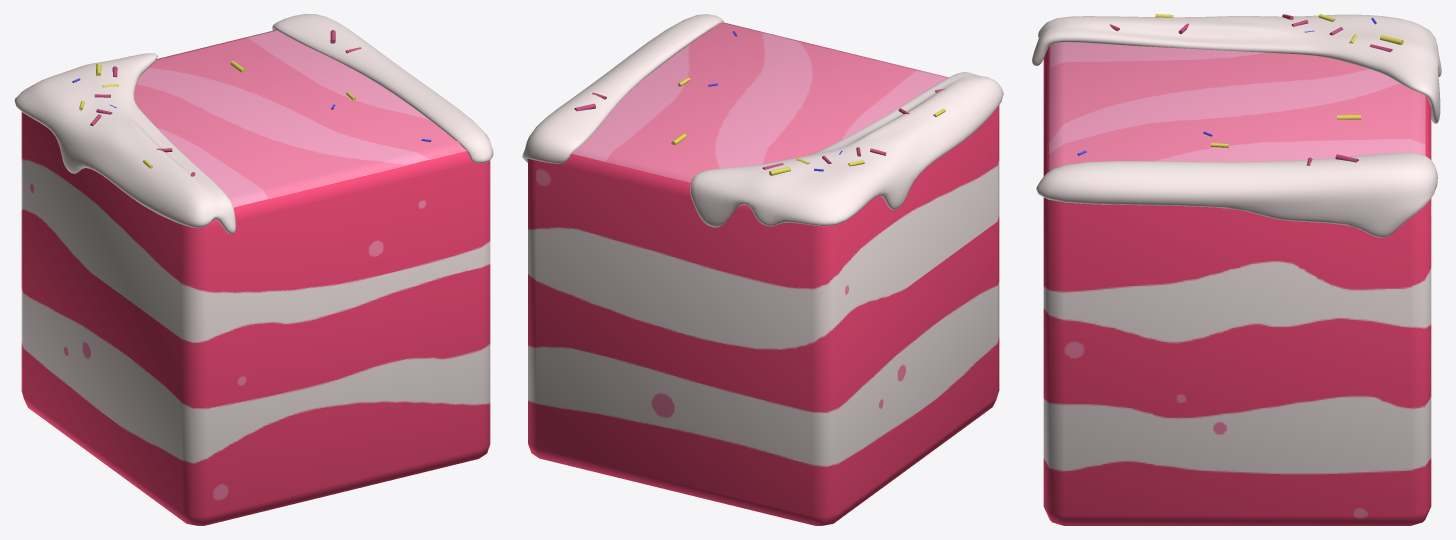
The model's file is Strawberry_2.fbx.
The picture shows the model from 3 angles, left to right: view 1: azimuth 30°, elevation 25°; view 2: azimuth 150°, elevation 25°; view 3: azimuth 270°, elevation 25°; orthographic projection. The views are drawn at different scales.
Visible parts, largest first — view 1: Cube, Plane; view 2: Cube, Plane; view 3: Cube, Plane.
Boxes of the visible parts, bbox=[...] form: Cube: bbox=[21, 30, 490, 525]; Plane: bbox=[14, 14, 493, 234]; Cube: bbox=[528, 22, 999, 525]; Plane: bbox=[522, 14, 1003, 227]; Cube: bbox=[1043, 42, 1431, 525]; Plane: bbox=[1032, 14, 1441, 237].
Bounding box in the file's own units: 212 × 211 × 212.
5 materials, 1 textured.
